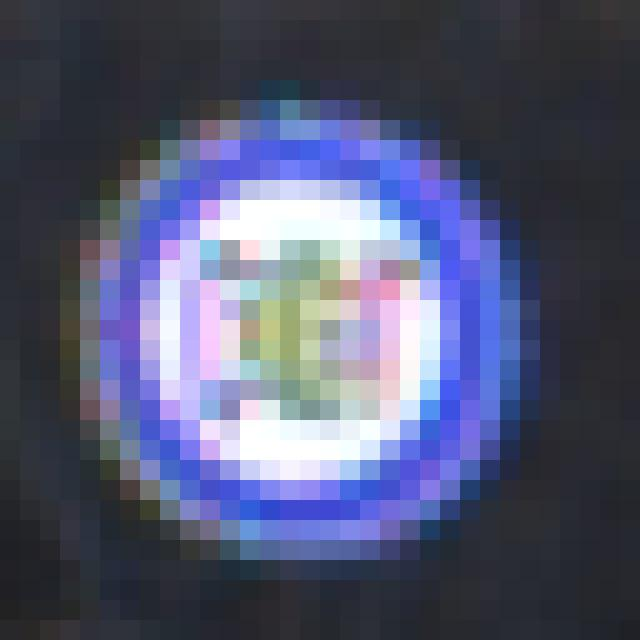SPEED LIMIT 100: (80, 113, 520, 552)
